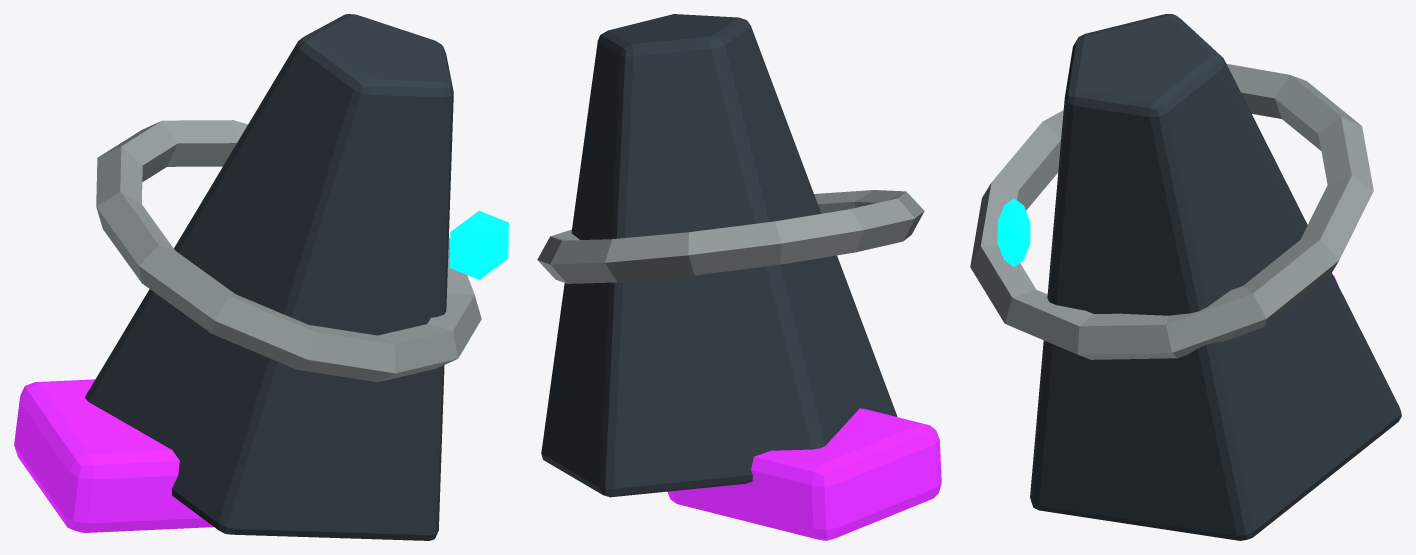
File: Find_UnknownObject_01.glb
The picture shows the model from 3 angles, left to right: view 1: azimuth 30°, elevation 25°; view 2: azimuth 150°, elevation 25°; view 3: azimuth 270°, elevation 25°; orthographic projection. The views are drawn at different scales.
Parts seen in each view (by area): view 1: Find_UnknownObject_01, Find_UnknownObject_01_AncientRing, Find_UnknownObject_01_AsymmetricFoot, Find_UnknownObject_01_MovingLight; view 2: Find_UnknownObject_01, Find_UnknownObject_01_AsymmetricFoot, Find_UnknownObject_01_AncientRing; view 3: Find_UnknownObject_01, Find_UnknownObject_01_AncientRing, Find_UnknownObject_01_MovingLight.
Part boxes in pixels (x1,y1,x2,y2): Find_UnknownObject_01: (85, 14, 453, 540); Find_UnknownObject_01_AncientRing: (96, 120, 481, 382); Find_UnknownObject_01_AsymmetricFoot: (14, 379, 213, 532); Find_UnknownObject_01_MovingLight: (449, 210, 508, 279); Find_UnknownObject_01: (541, 14, 897, 497); Find_UnknownObject_01_AsymmetricFoot: (667, 408, 941, 540); Find_UnknownObject_01_AncientRing: (537, 190, 924, 283); Find_UnknownObject_01: (1030, 14, 1401, 540); Find_UnknownObject_01_AncientRing: (970, 63, 1373, 359); Find_UnknownObject_01_MovingLight: (997, 198, 1030, 266).
Size of the model in its own units: 0.8358 by 0.9453 by 0.7919.
